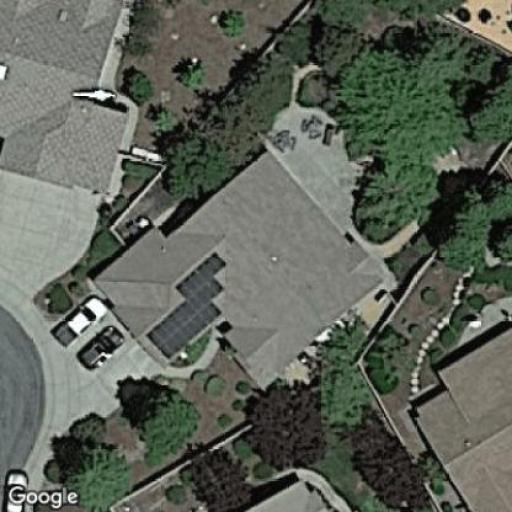solar-panel: (146, 253, 228, 360)
